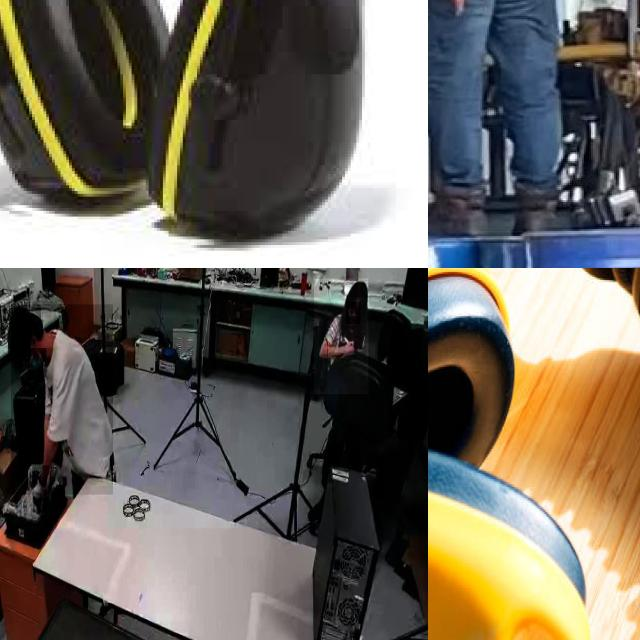Ear-protection: (428, 268, 640, 640), (143, 0, 365, 239), (0, 0, 157, 216)
face_mask: (28, 348, 46, 377), (422, 328, 428, 375)
face_nomask: (346, 302, 361, 324)
hand_glove: (32, 465, 50, 513)
hand_noglove: (343, 338, 355, 355)
head_nohelmet: (8, 308, 42, 334), (350, 280, 368, 298)
person: (11, 304, 113, 496), (314, 279, 369, 395), (389, 306, 428, 441)
